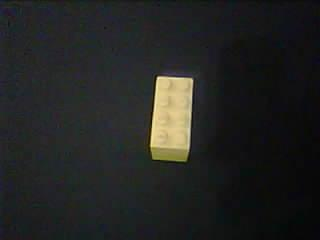lego: (148, 74, 193, 162)
